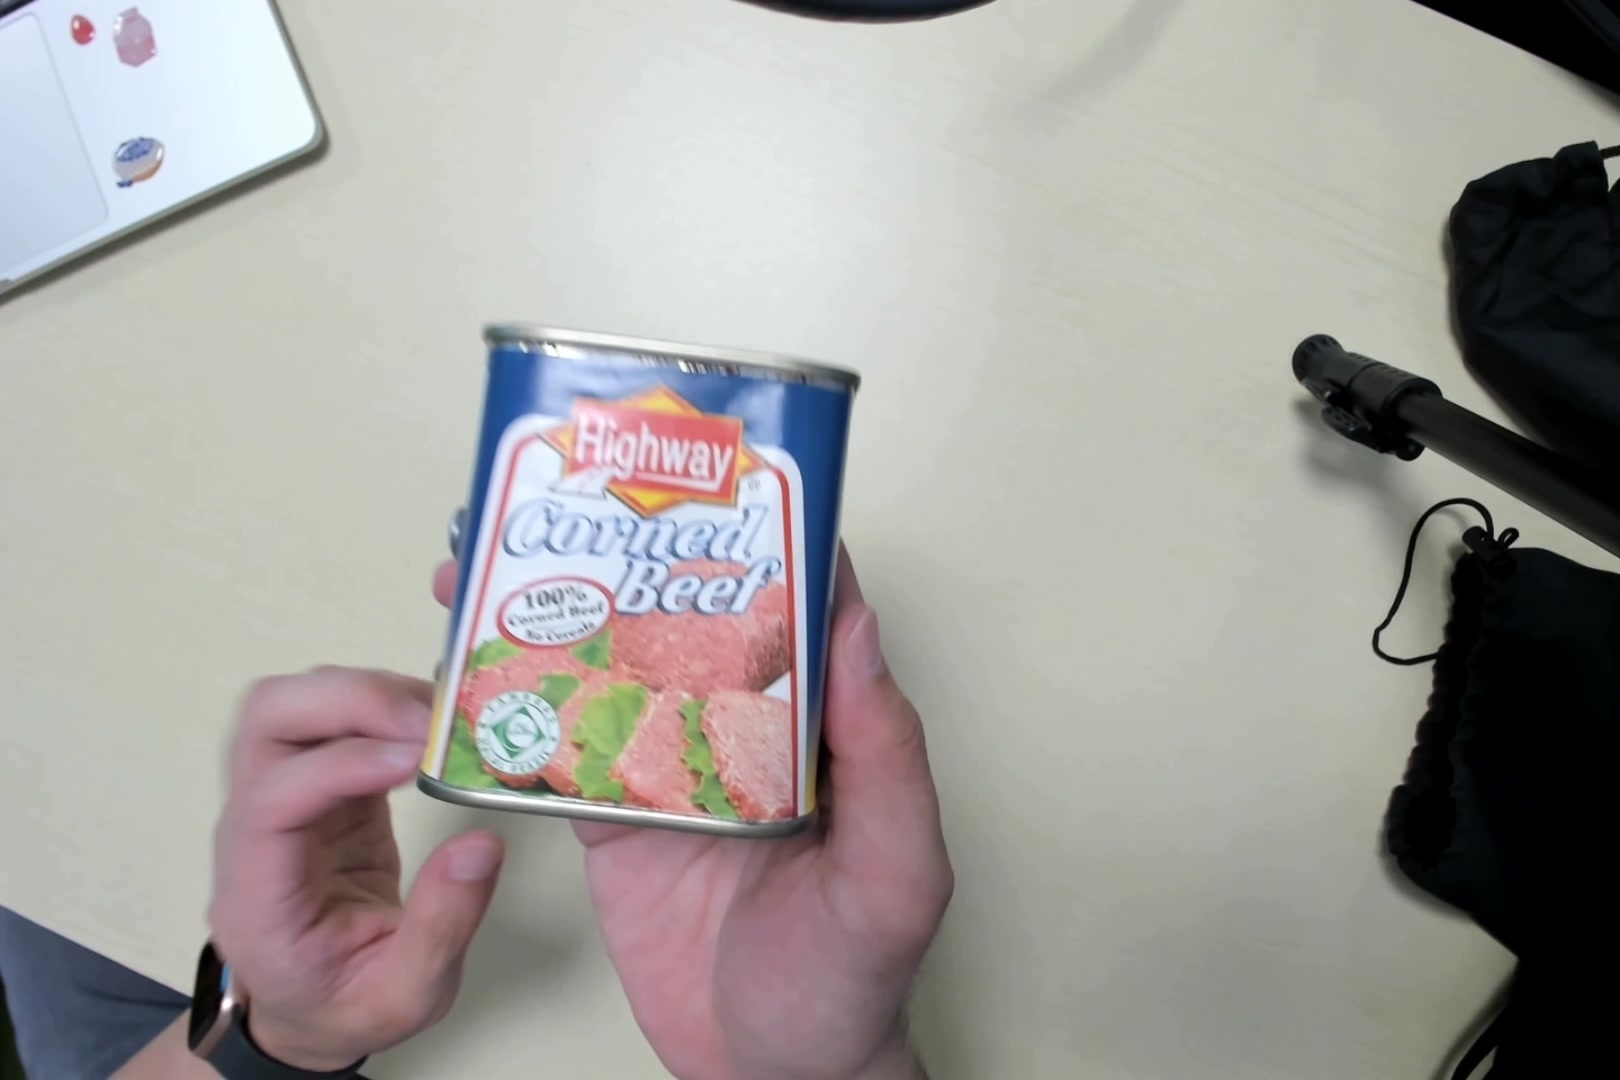CannedBeefOtherMeats_300-399g_Halal_NonHealthy: (435, 319, 830, 833)
